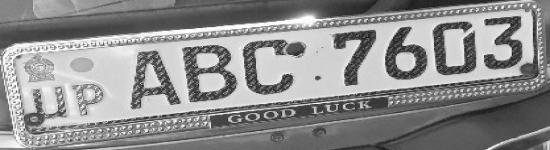0: (427, 20, 479, 77)
3: (479, 12, 527, 72)
6: (382, 24, 431, 81)
7: (324, 27, 382, 88)
A: (122, 47, 183, 112)
B: (180, 42, 240, 104)
C: (239, 36, 299, 97)
P: (69, 80, 108, 118)
U: (28, 84, 70, 121)
